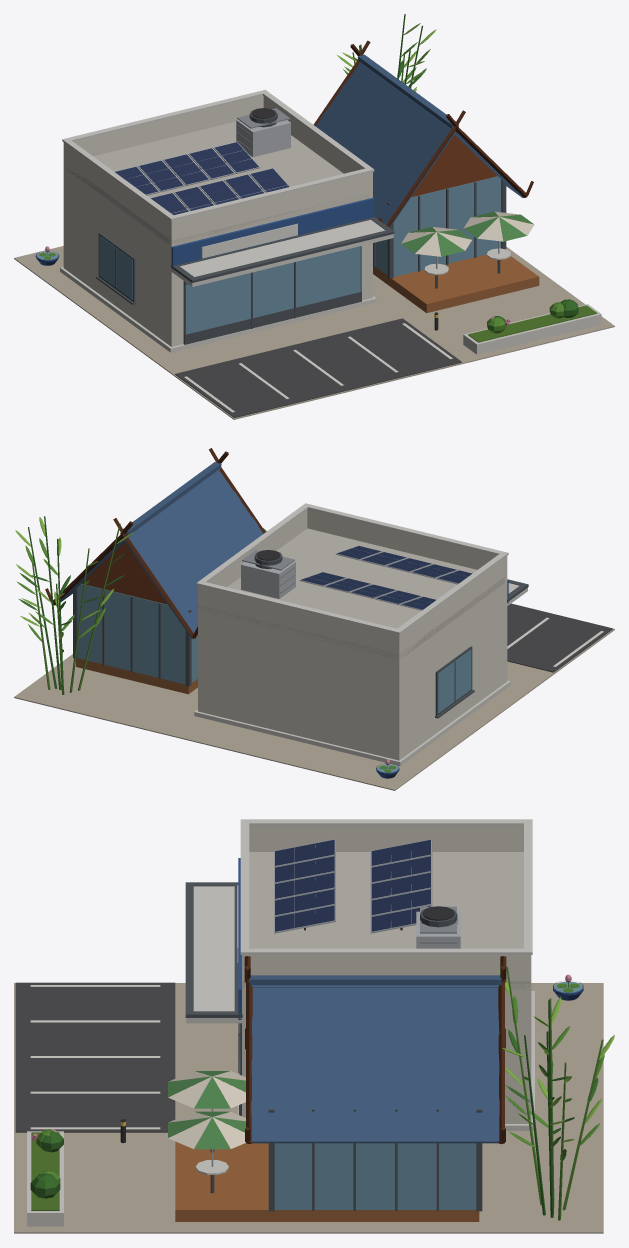
The model's file is shop_1.glb.
3 renders of one model, top to bottom at view 1: azimuth 30°, elevation 25°; view 2: azimuth 150°, elevation 25°; view 3: azimuth 270°, elevation 25°, orthographic. The views are drawn at different scales.
Visible parts, largest first — view 1: body; view 2: body; view 3: body.
Part boxes in pixels (x1=…): body: x1=14, y1=14, x2=614, y2=419; body: x1=14, y1=448, x2=614, y2=790; body: x1=14, y1=819, x2=614, y2=1233.
Size of the model in its own units: 16.75 by 6.76 by 16.21.
